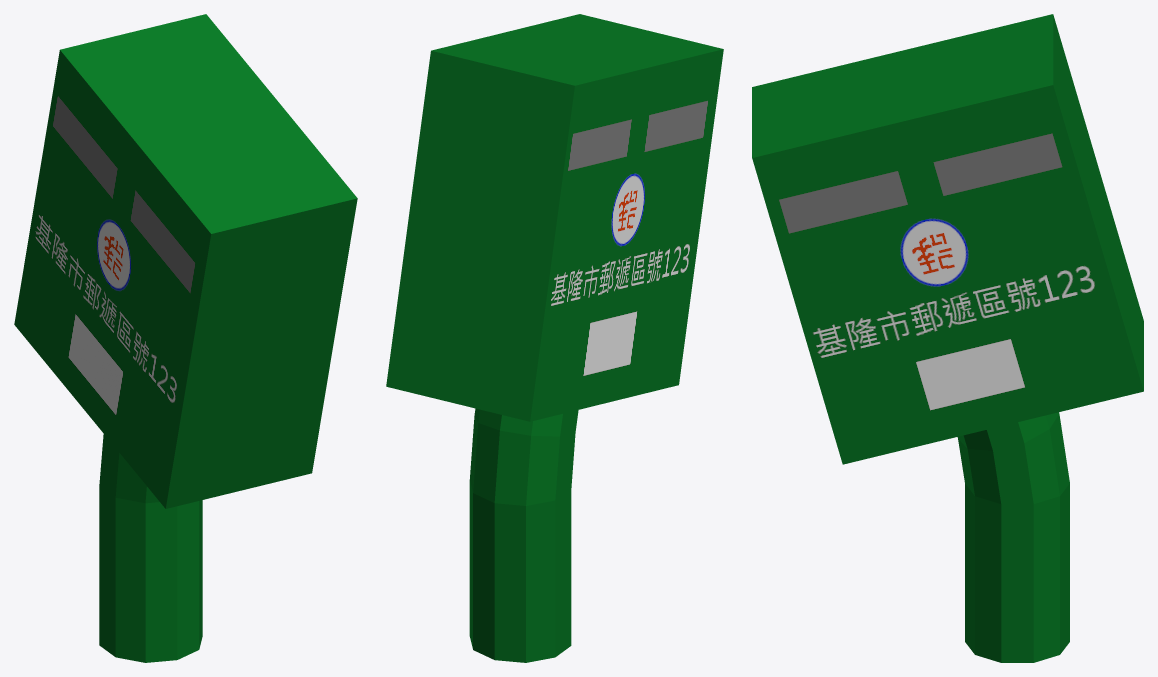
Rendered from post.fbx.
3 renders of one model, left to right at view 1: azimuth 30°, elevation 25°; view 2: azimuth 150°, elevation 25°; view 3: azimuth 270°, elevation 25°, orthographic.
Parts seen in each view (by area): view 1: post; view 2: post; view 3: post.
Boxes of the visible parts, x1,y1,x2,y2 form: post: (14, 14, 357, 662); post: (386, 14, 723, 662); post: (752, 14, 1143, 662).
Bounding box in the file's own units: 0.96 × 3.73 × 2.24.
Materials: 1 (1 with a texture image).
